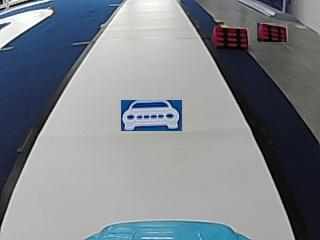bomb: (210, 25, 249, 47)
